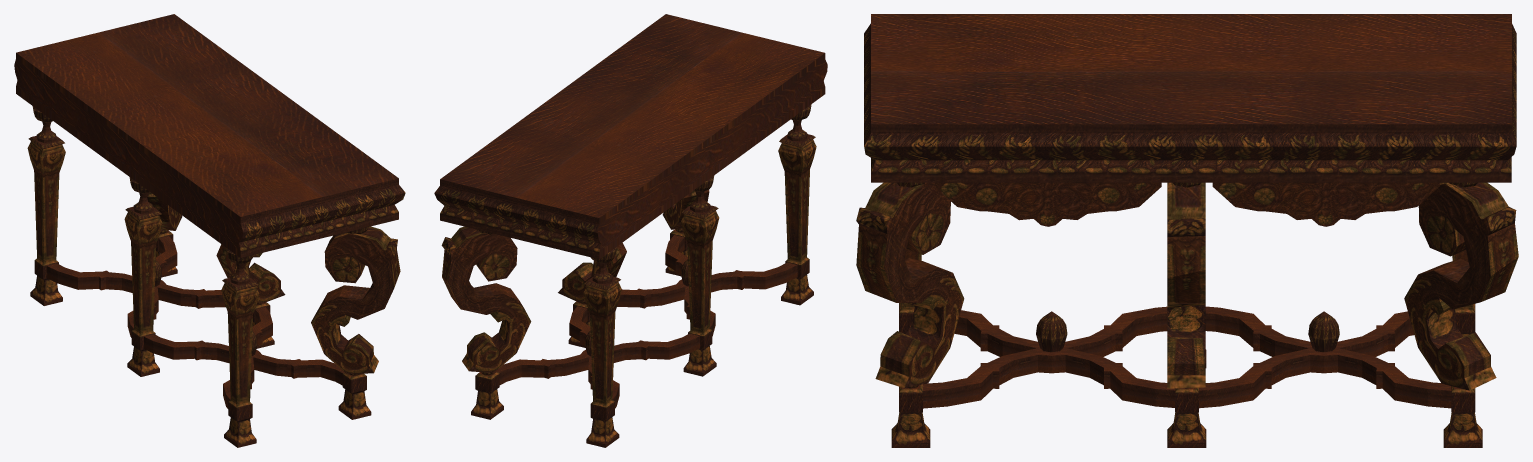
The model's file is Table_Fancy.fbx.
The picture shows the model from 3 angles, left to right: view 1: azimuth 30°, elevation 25°; view 2: azimuth 150°, elevation 25°; view 3: azimuth 270°, elevation 25°; orthographic projection. The views are drawn at different scales.
Parts seen in each view (by area): view 1: Table_Fancy_LOD0; view 2: Table_Fancy_LOD0; view 3: Table_Fancy_LOD0.
Boxes of the visible parts, <box> form: Table_Fancy_LOD0: <box>14,14,405,447</box>; Table_Fancy_LOD0: <box>434,14,827,447</box>; Table_Fancy_LOD0: <box>856,14,1518,447</box>.
Size of what is drawn, in the model's own units: 166 by 224 by 398.
